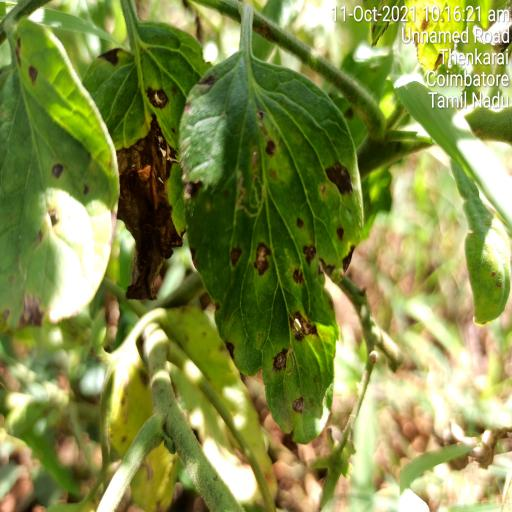disease_tomato: (179, 54, 361, 446)
